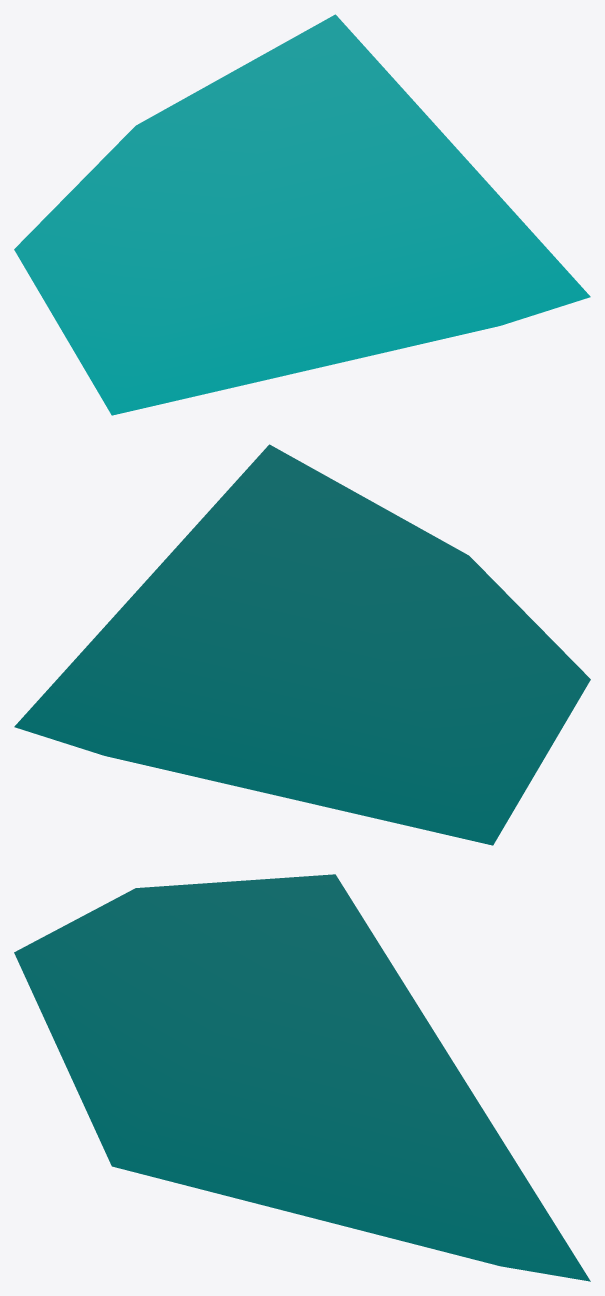
File: Wild_Grass_vczndjqja_Mid_vczndjqja_VarC_LOD3.fbx
3 renders of one model, top to bottom at view 1: azimuth 30°, elevation 25°; view 2: azimuth 150°, elevation 25°; view 3: azimuth 330°, elevation 25°, orthographic.
Parts seen in each view (by area): view 1: _72oh_VarC_LOD4; view 2: _72oh_VarC_LOD4; view 3: _72oh_VarC_LOD4.
Part boxes in pixels (left/top/right/bottom): _72oh_VarC_LOD4: left=14, top=14, right=590, bottom=415; _72oh_VarC_LOD4: left=14, top=444, right=590, bottom=845; _72oh_VarC_LOD4: left=14, top=874, right=590, bottom=1281.
Size of the model in its own units: 54.1 by 31.52 by 0.
